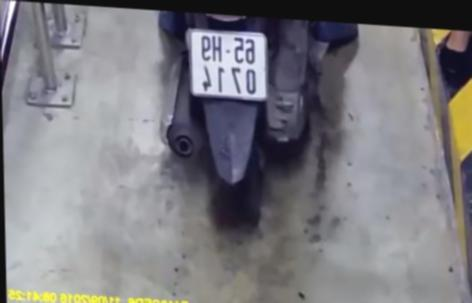License_Plate: (179, 24, 272, 102)
